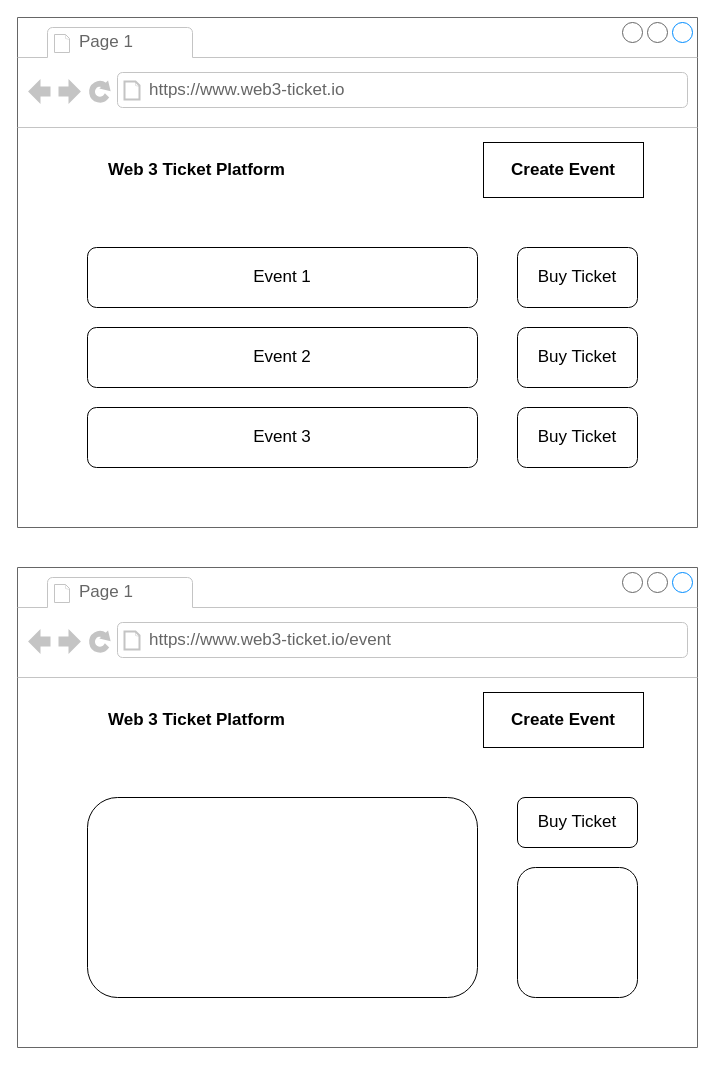
The diagram is 715 pixels wide and 1065 high, and some of its shapes have lost their labels. The shapes that lost their labels are listed below. From the top down, each one's box as (x1, y1, x2, y2) in pixels, then its label:
(86, 796, 478, 998): Event detail
(516, 866, 638, 998): info
